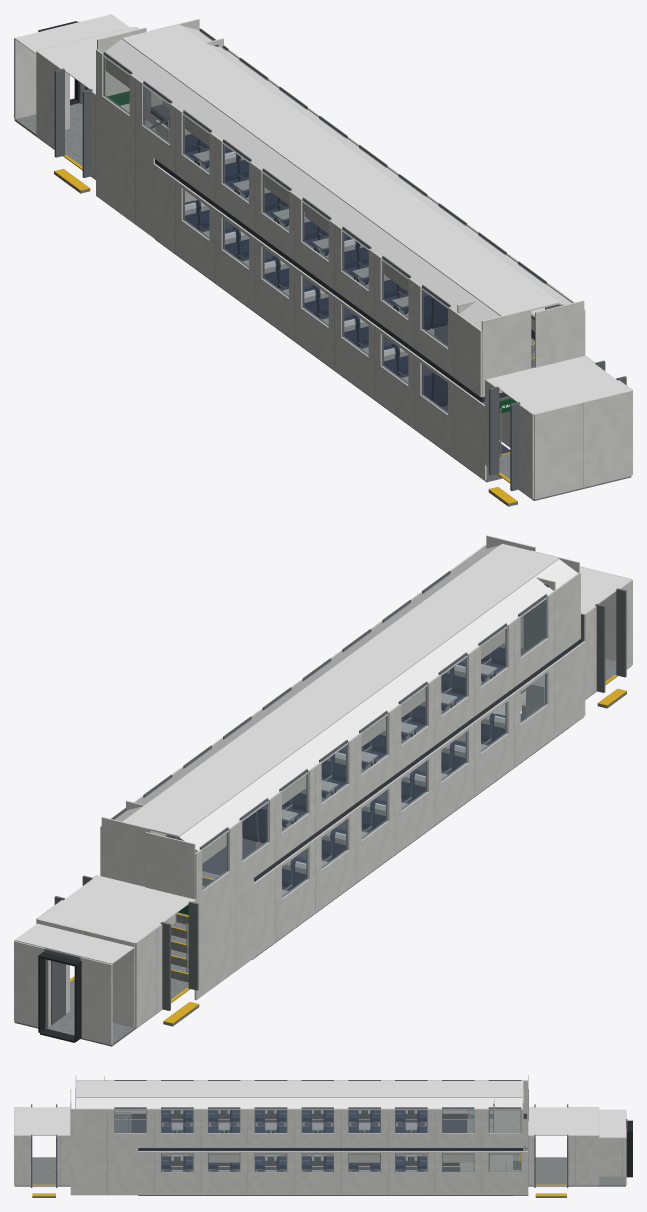
Rendered from edo_sisa.glb.
3 views of the same model, one above another, from view 1: azimuth 30°, elevation 25°; view 2: azimuth 150°, elevation 25°; view 3: azimuth 270°, elevation 25° (orthographic). The views are drawn at different scales.
Visible parts, largest first — view 1: sisa_S_seina, sisa_S_katto, sisa_S_ikkunalasi, sisa_S_kehys, sisa_S_verhoilu, sisa_S_matto, sisa_S_muovimatto, sisa_S_verho, sisa_S_niskatuki, sisa_S_poyta; view 2: sisa_S_seina, sisa_S_katto, sisa_S_ikkunalasi, sisa_S_kehys, sisa_S_verhoilu, sisa_S_muovimatto, sisa_S_matto, sisa_S_tumma, sisa_S_verho, sisa_S_niskatuki, sisa_S_poyta, sisa_S_askelreuna (+1 smaller); view 3: sisa_S_seina, sisa_S_katto, sisa_S_ikkunalasi, sisa_S_kehys, sisa_S_matto, sisa_S_verhoilu, sisa_S_muovimatto, sisa_S_muovi, sisa_S_saleikko, sisa_S_poyta, sisa_S_verho, sisa_S_lasi (+3 smaller).
Boxes of the visible parts, left/top/right/bottom form: sisa_S_seina: left=14, top=19, right=632, bottom=499; sisa_S_katto: left=14, top=14, right=630, bottom=413; sisa_S_ikkunalasi: left=103, top=55, right=544, bottom=414; sisa_S_kehys: left=44, top=21, right=626, bottom=490; sisa_S_verhoilu: left=185, top=134, right=447, bottom=406; sisa_S_matto: left=150, top=104, right=531, bottom=472; sisa_S_muovimatto: left=14, top=103, right=631, bottom=506; sisa_S_verho: left=105, top=58, right=408, bottom=291; sisa_S_niskatuki: left=185, top=129, right=408, bottom=361; sisa_S_poyta: left=193, top=150, right=408, bottom=382; sisa_S_seina: left=14, top=535, right=632, bottom=1044; sisa_S_katto: left=14, top=543, right=630, bottom=964; sisa_S_ikkunalasi: left=202, top=597, right=547, bottom=898; sisa_S_kehys: left=44, top=571, right=626, bottom=1029; sisa_S_verhoilu: left=242, top=647, right=525, bottom=890; sisa_S_muovimatto: left=14, top=658, right=631, bottom=1046; sisa_S_matto: left=176, top=640, right=579, bottom=959; sisa_S_tumma: left=38, top=673, right=495, bottom=1042; sisa_S_verho: left=202, top=629, right=505, bottom=863; sisa_S_niskatuki: left=282, top=642, right=505, bottom=874; sisa_S_poyta: left=282, top=664, right=497, bottom=895; sisa_S_askelreuna: left=70, top=675, right=626, bottom=1023; sisa_S_seina: left=14, top=1075, right=626, bottom=1195; sisa_S_katto: left=14, top=1081, right=625, bottom=1138; sisa_S_ikkunalasi: left=114, top=1109, right=520, bottom=1172; sisa_S_kehys: left=31, top=1080, right=627, bottom=1187; sisa_S_matto: left=115, top=1119, right=523, bottom=1195; sisa_S_verhoilu: left=162, top=1110, right=426, bottom=1169; sisa_S_muovimatto: left=14, top=1120, right=625, bottom=1197; sisa_S_muovi: left=162, top=1110, right=426, bottom=1171; sisa_S_saleikko: left=115, top=1113, right=526, bottom=1165; sisa_S_poyta: left=171, top=1122, right=416, bottom=1171; sisa_S_verho: left=208, top=1154, right=473, bottom=1162; sisa_S_lasi: left=115, top=1111, right=492, bottom=1132.
Bounding box in the file's own units: 3.1 × 3.94 × 23.8.
Materials: 24 (7 with a texture image).
